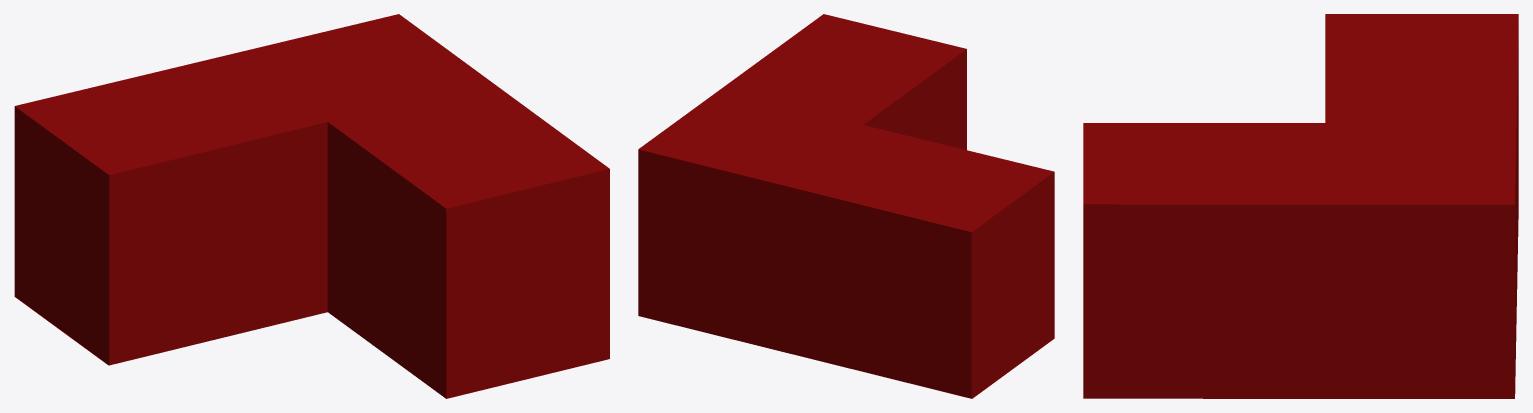
File: New Game Object (101).obj
3 renders of one model, left to right at view 1: azimuth 30°, elevation 25°; view 2: azimuth 150°, elevation 25°; view 3: azimuth 270°, elevation 25°, orthographic. The views are drawn at different scales.
Parts seen in each view (by area): view 1: New Game Object (101)_0, New Game Object (101)_1; view 2: New Game Object (101)_0, New Game Object (101)_1; view 3: New Game Object (101)_0, New Game Object (101)_1.
Boxes of the visible parts, <box> form: New Game Object (101)_0: <box>14,106,609,398</box>; New Game Object (101)_1: <box>15,14,609,340</box>; New Game Object (101)_0: <box>638,49,1054,398</box>; New Game Object (101)_1: <box>638,14,1053,232</box>; New Game Object (101)_0: <box>1083,25,1518,398</box>; New Game Object (101)_1: <box>1083,14,1518,204</box>.
Bounding box in the file's own units: 24.85 × 11.79 × 23.95.
